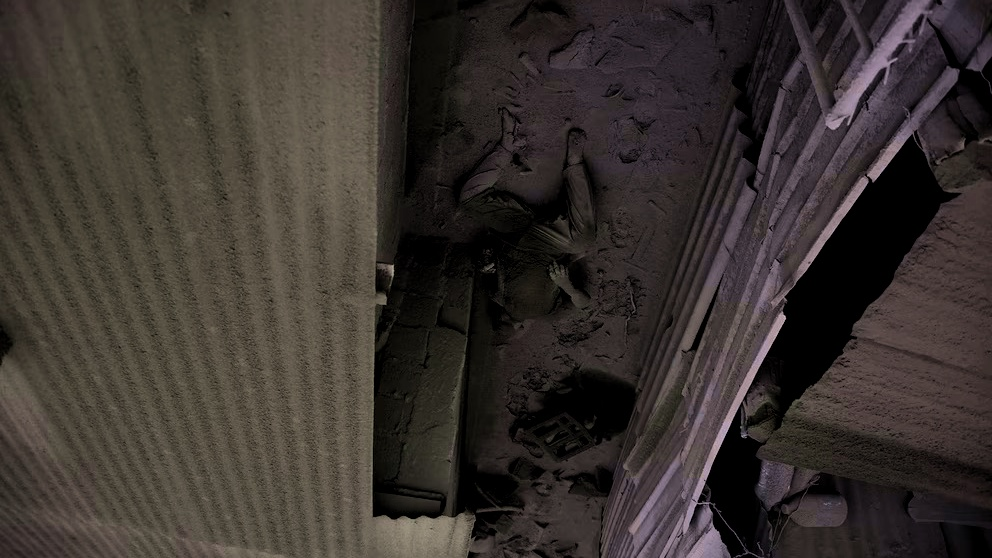Korban: (454, 107, 597, 341)
